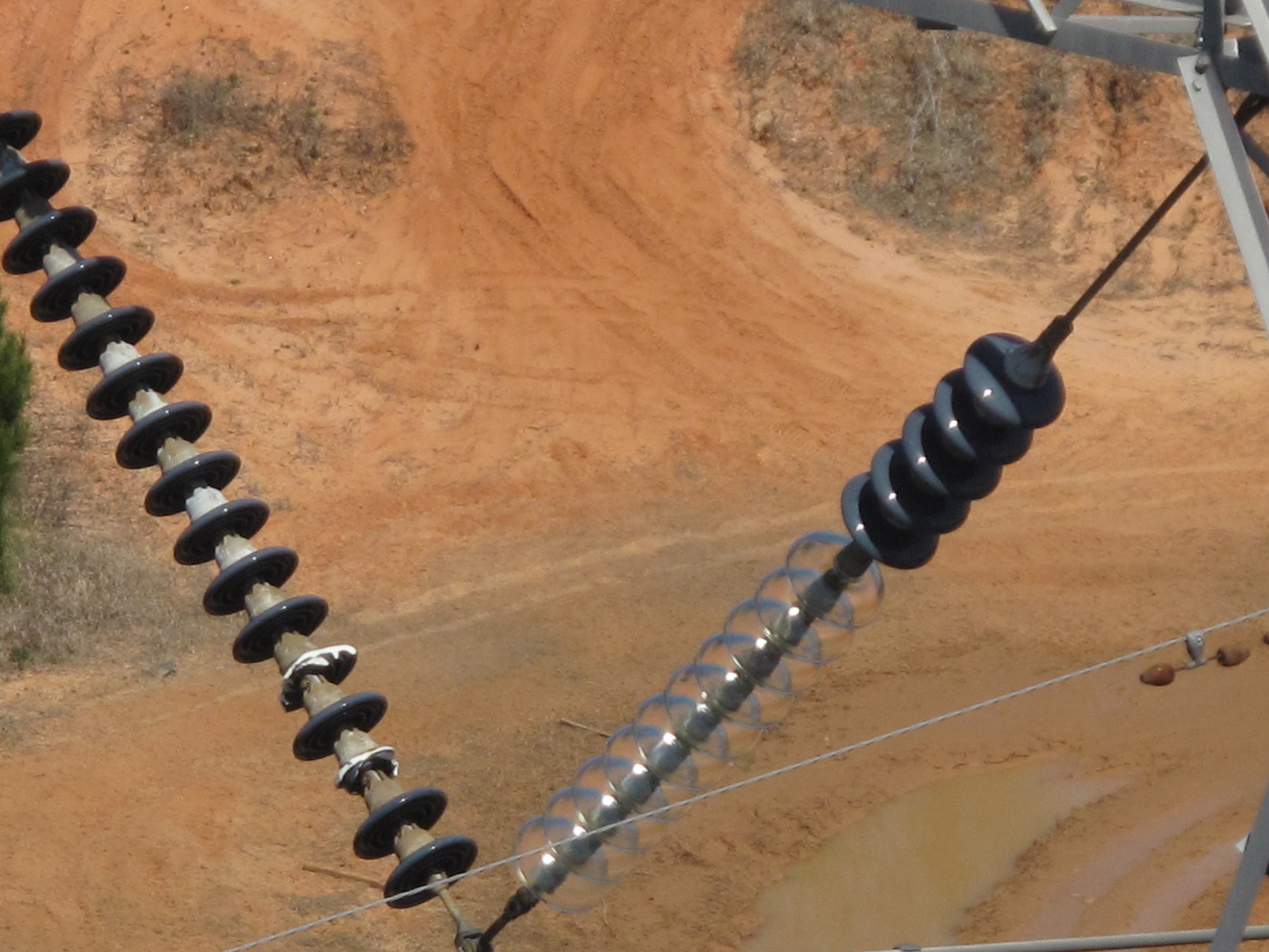damaged: (278, 641, 362, 708), (334, 739, 402, 797)
hammer: (1139, 617, 1255, 688)
insulator: (0, 107, 477, 905), (512, 334, 1061, 909)
